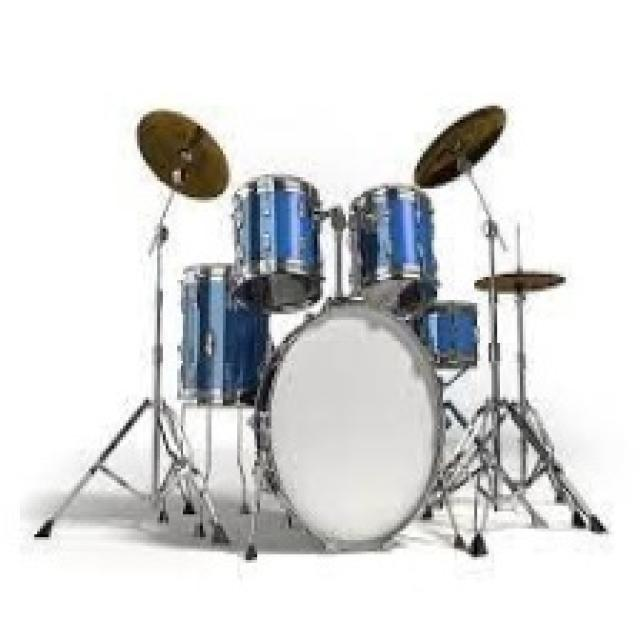drums: (30, 106, 614, 564)
